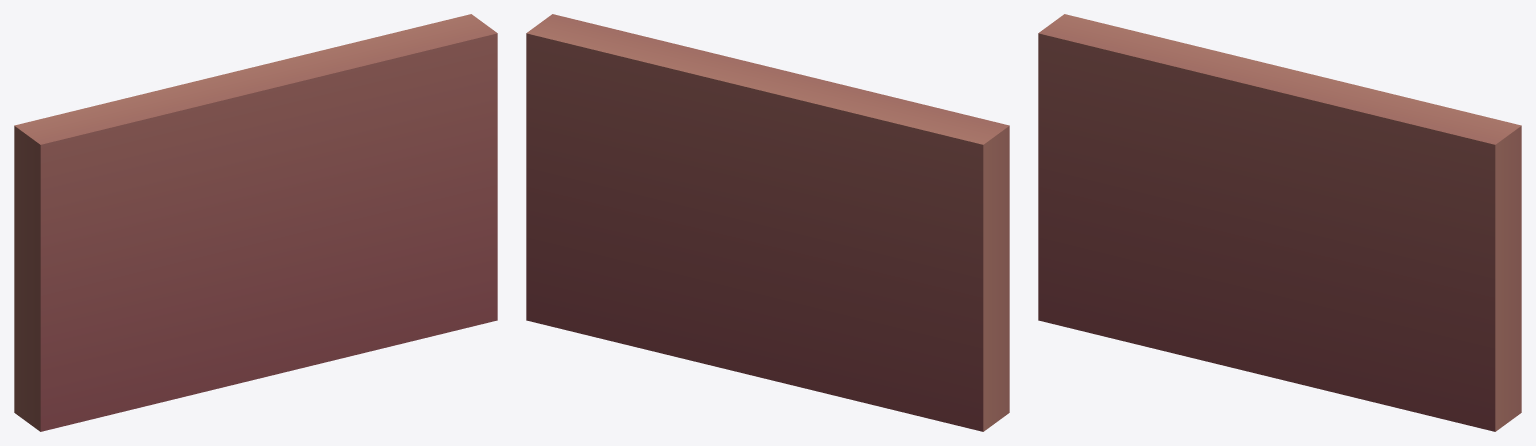
The model's file is Sign_Wood_01.fbx.
3 views of the same model, side by side, from view 1: azimuth 30°, elevation 25°; view 2: azimuth 150°, elevation 25°; view 3: azimuth 330°, elevation 25° (orthographic).
Parts seen in each view (by area): view 1: Sign_Wood_01; view 2: Sign_Wood_01; view 3: Sign_Wood_01.
Part boxes in pixels (x1,y1,x2,y2): Sign_Wood_01: (14, 14, 497, 431); Sign_Wood_01: (526, 14, 1009, 431); Sign_Wood_01: (1038, 14, 1521, 431).
Bounding box in the file's own units: 100 × 60 × 10.
